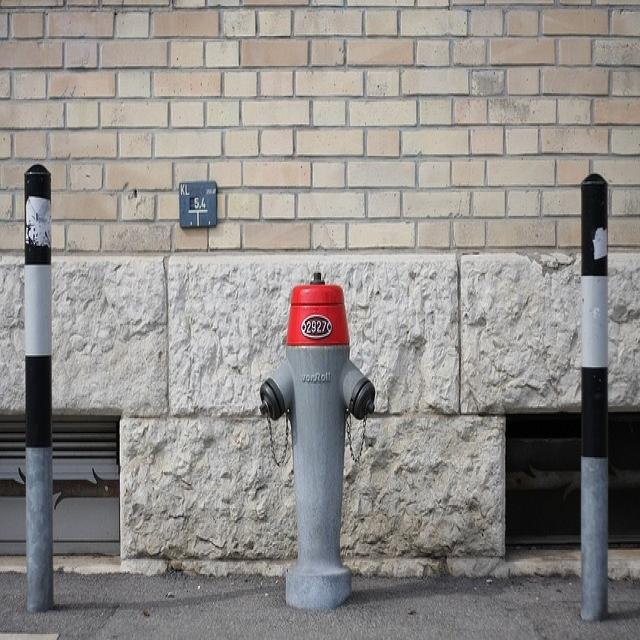fire_hydrant: (252, 272, 402, 612)
